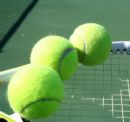tennis ball: (7, 64, 63, 118), (29, 35, 78, 80), (69, 23, 112, 65)
